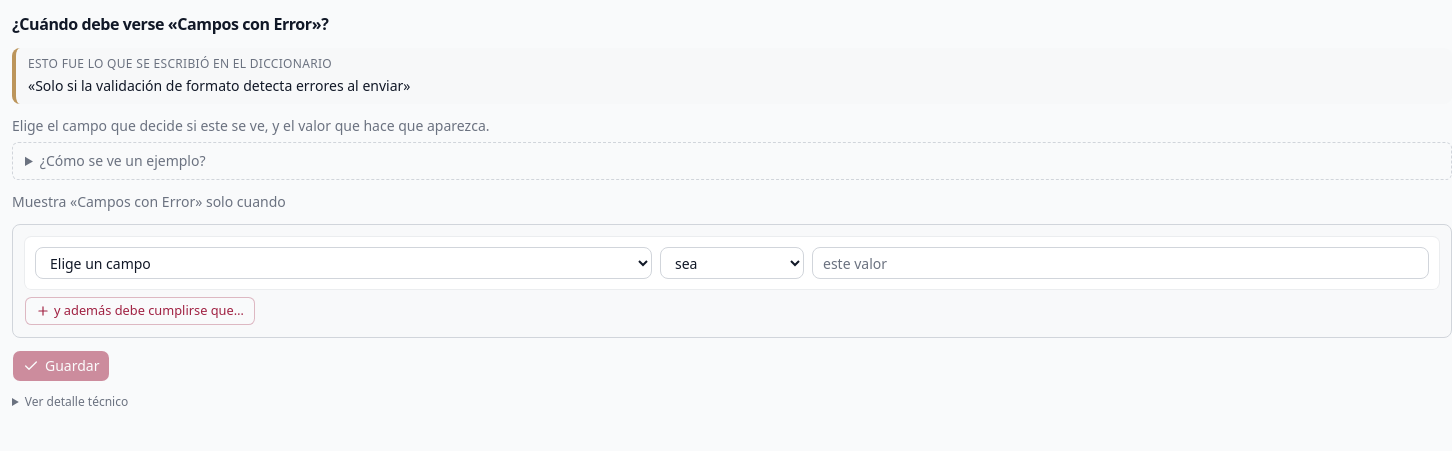
Scenario: el ejemplo de otro tramite queda plegado, no encabezando la tarjeta
Click the heading "¿Cómo se ve un ejemplo?": (123, 160) [40,151,206,170]
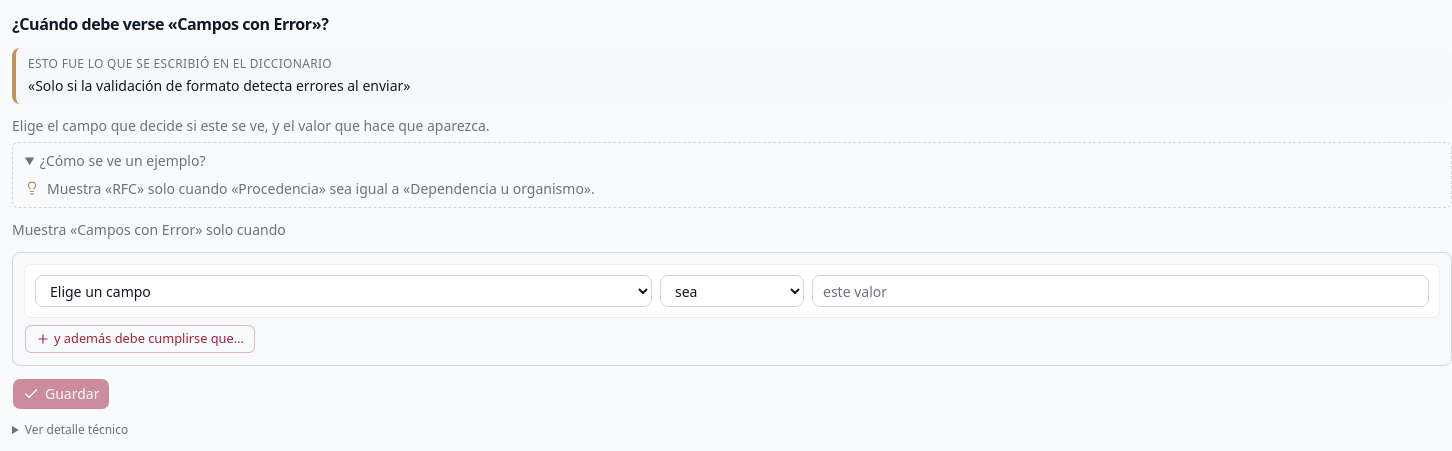
expect the text "Muestra «RFC» solo cuando «Procedencia»" is shown: met, box [47,179,595,198]
